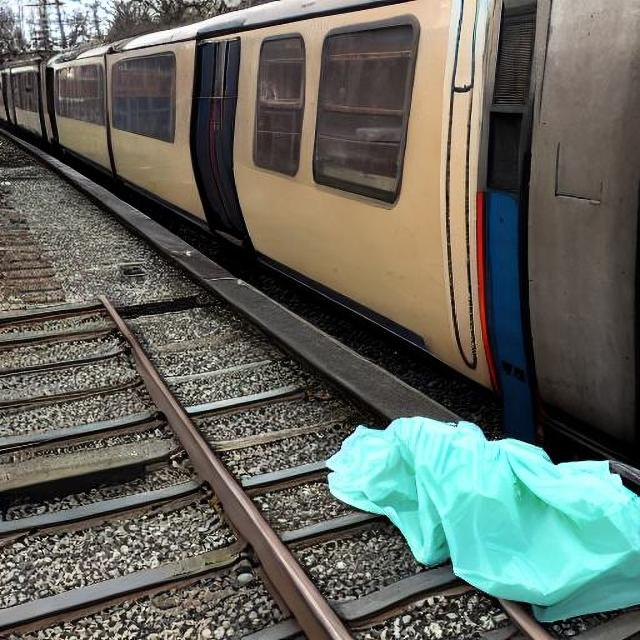plastic bag: (316, 413, 635, 604)
